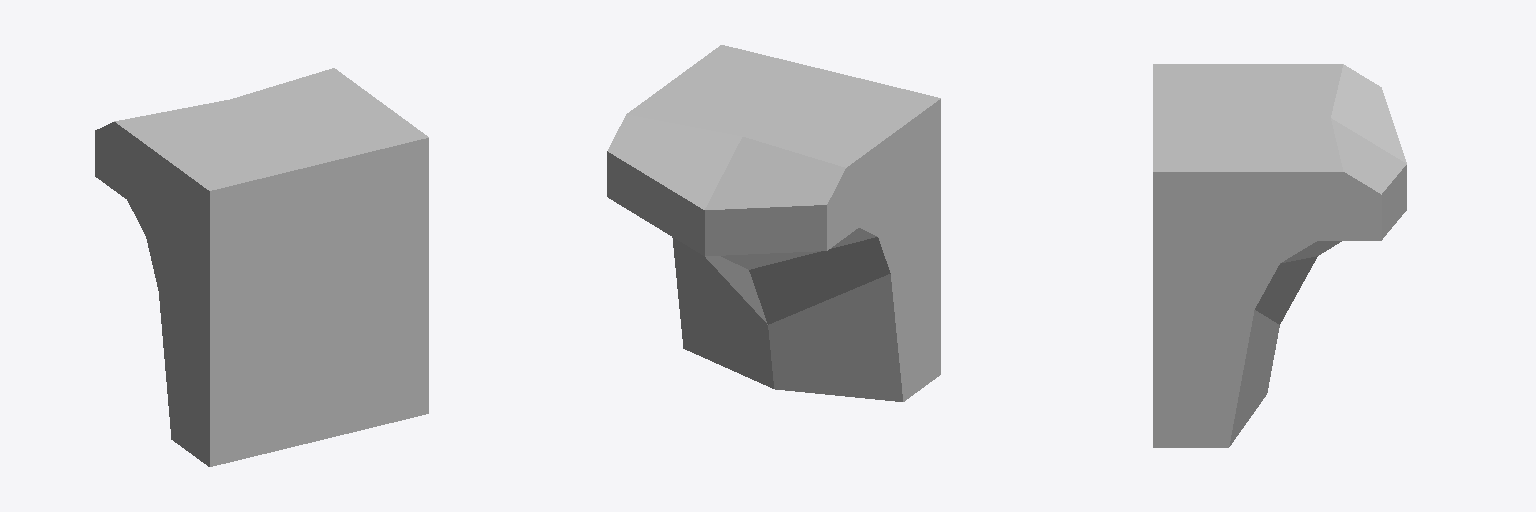
Rendered from Cliff_Top_Straight.obj.
3 views of the same model, side by side, from view 1: azimuth 30°, elevation 25°; view 2: azimuth 150°, elevation 25°; view 3: azimuth 270°, elevation 25° (orthographic).
Parts seen in each view (by area): view 1: object1; view 2: object1; view 3: object1.
Part boxes in pixels (bbox=[...]): object1: bbox=[95, 68, 428, 466]; object1: bbox=[607, 45, 940, 401]; object1: bbox=[1153, 64, 1406, 447].
Bounding box in the file's own units: 1 × 1.2 × 1.